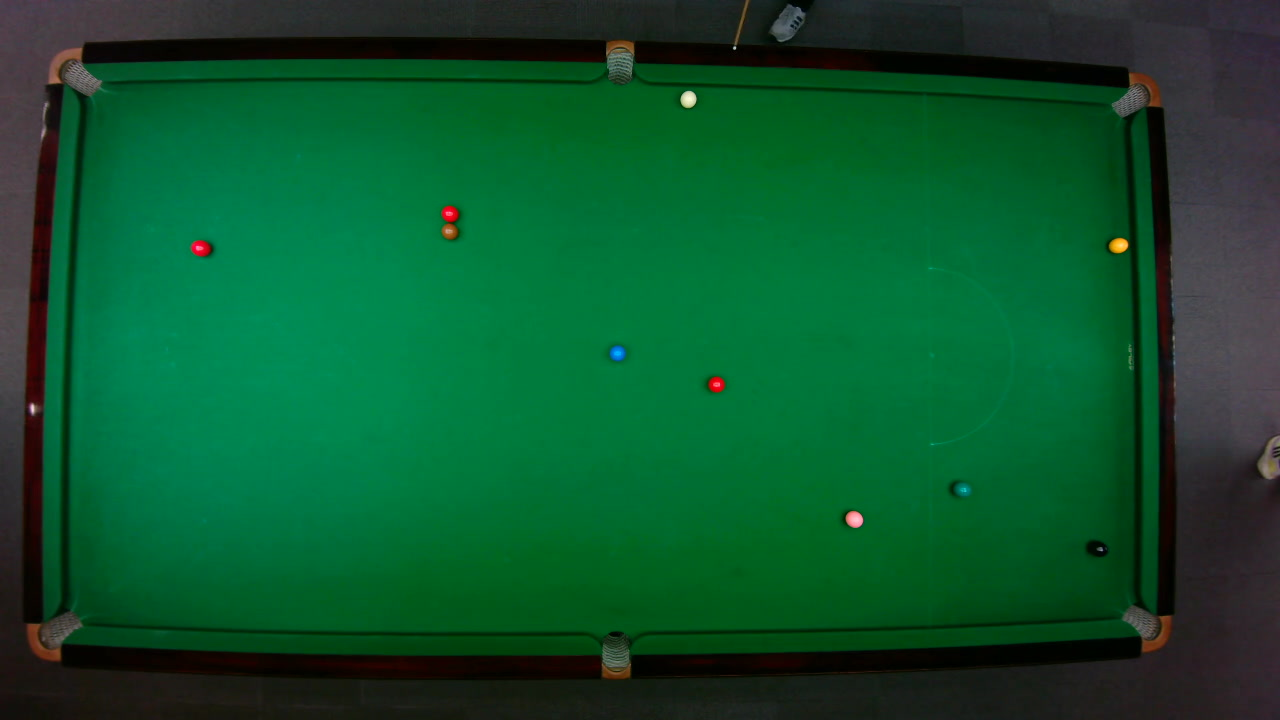bag: (25, 609, 83, 661), (45, 46, 102, 96), (1119, 603, 1172, 652), (1108, 71, 1161, 118), (600, 629, 630, 680), (605, 38, 633, 85)
black: (1087, 539, 1108, 557)
blue: (608, 344, 626, 361)
brown: (440, 223, 458, 240)
cue: (731, 0, 751, 52)
green: (950, 480, 972, 497)
pink: (843, 509, 864, 528)
red: (189, 239, 211, 257), (706, 374, 725, 393), (439, 204, 459, 222)
white: (678, 89, 697, 109)
yellow: (1107, 236, 1129, 253)
zone: (927, 266, 1013, 446)
